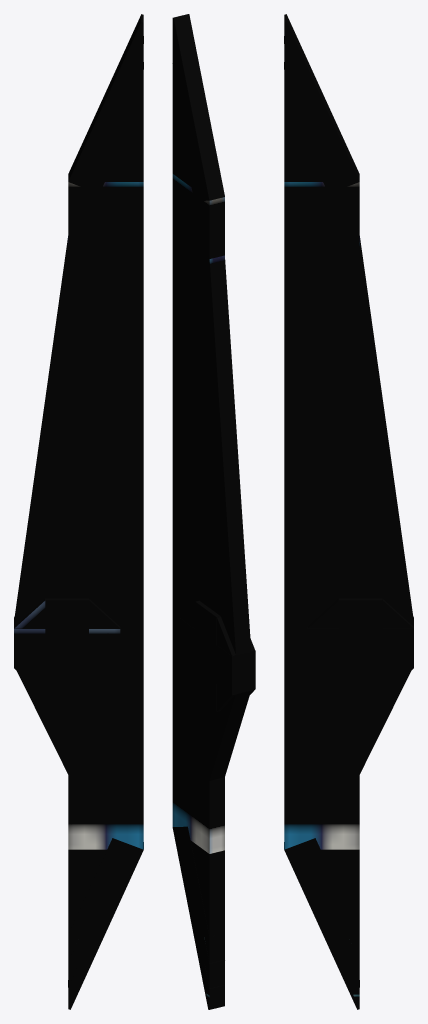
Rendered from moonless_blade.obj.
3 views of the same model, side by side, from view 1: azimuth 90°, elevation 25°; view 2: azimuth 210°, elevation 25°; view 3: azimuth 270°, elevation 25° (orthographic). The views are drawn at different scales.
Parts seen in each view (by area): view 1: cube; view 2: cube; view 3: cube.
Part boxes in pixels (x1,y1,x2,y2): cube: (14, 14, 143, 1009); cube: (172, 14, 255, 1009); cube: (284, 14, 413, 1009).
Bounding box in the file's own units: 0.0763 × 2.99 × 0.3556.
